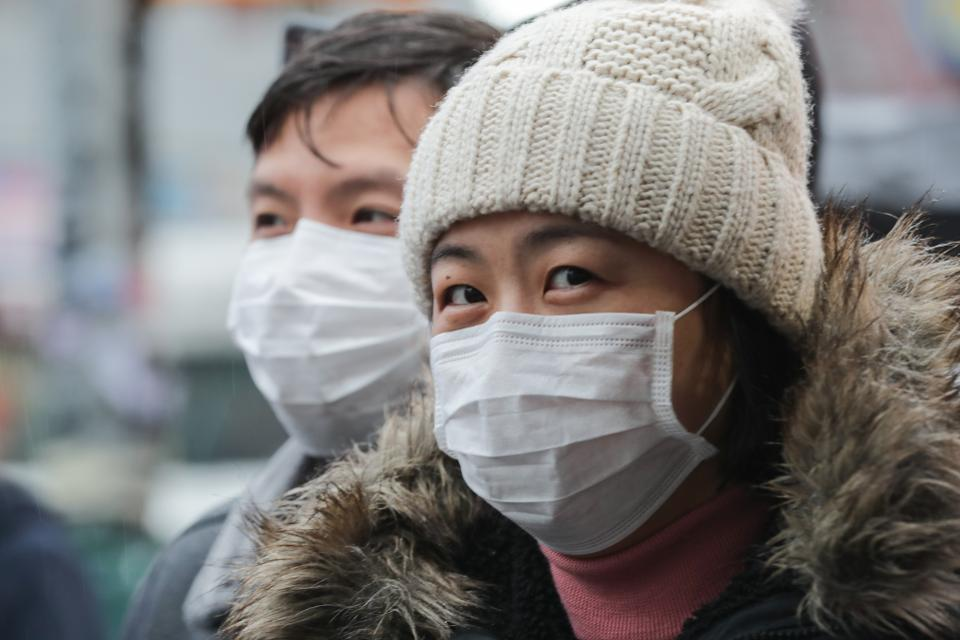surgical: (422, 312, 715, 552), (230, 231, 440, 457)
